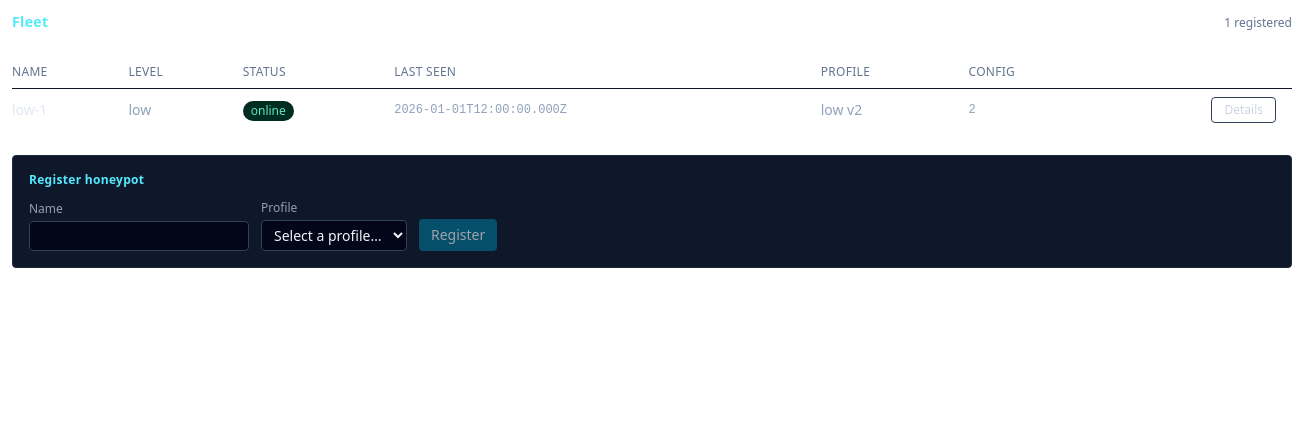
fetches a honeypot's detail and flags config drift when expanded
The width and height of the screenshot is (1304, 424).
Click the button "Details": x=1244, y=110 [1212,97,1276,123]
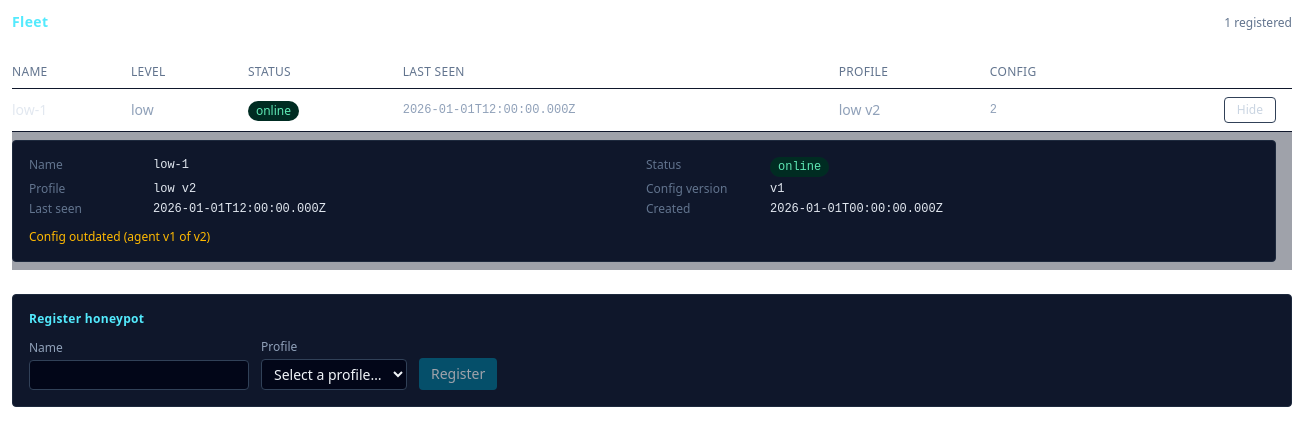
Now the text "Config outdated (agent v1 of v2)" is shown, box [29,228,210,245]
